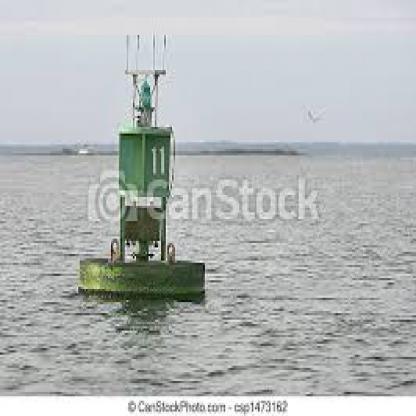buoy: (69, 24, 214, 307)
